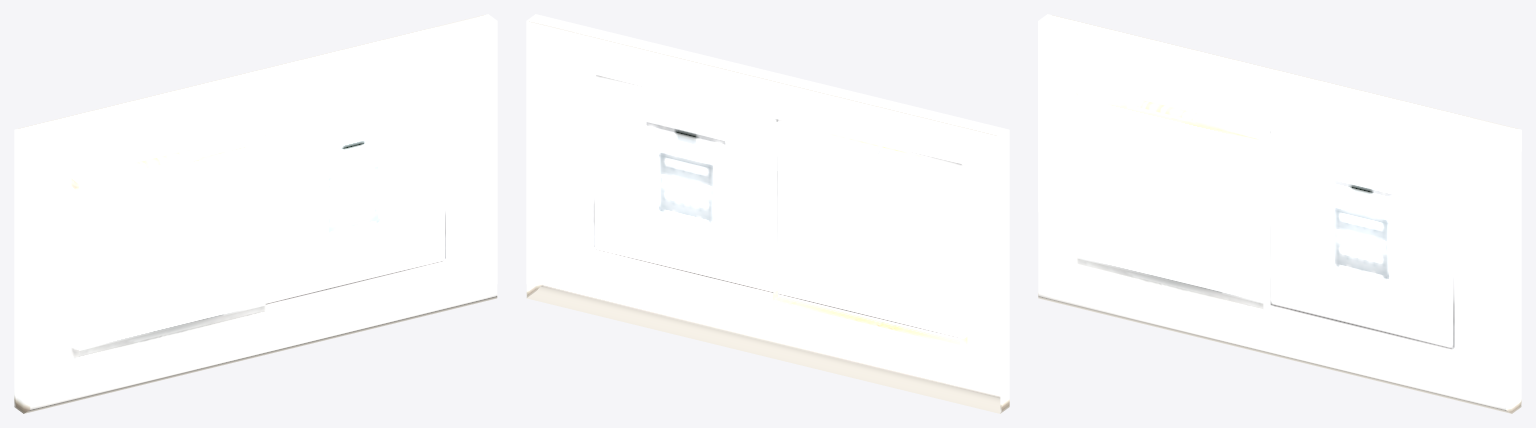
The model's file is Light switch.FBX.
3 renders of one model, left to right at view 1: azimuth 30°, elevation 25°; view 2: azimuth 150°, elevation 25°; view 3: azimuth 330°, elevation 25°, orthographic.
Parts seen in each view (by area): view 1: Light switch, Light button_L, Light button; view 2: Light switch, Light button, Light button_L; view 3: Light switch, Light button_L, Light button.
Part boxes in pixels (x1=…): Light switch: x1=14, y1=14, x2=497, y2=413; Light button_L: x1=71, y1=132, x2=265, y2=317; Light button: x1=71, y1=225, x2=265, y2=358; Light switch: x1=526, y1=14, x2=1009, y2=413; Light button: x1=773, y1=121, x2=967, y2=343; Light button_L: x1=773, y1=121, x2=967, y2=347; Light switch: x1=1038, y1=14, x2=1521, y2=413; Light button_L: x1=1076, y1=85, x2=1270, y2=222; Light button: x1=1076, y1=178, x2=1270, y2=311.
Bounding box in the file's own units: 8.94 × 5 × 0.5884.
